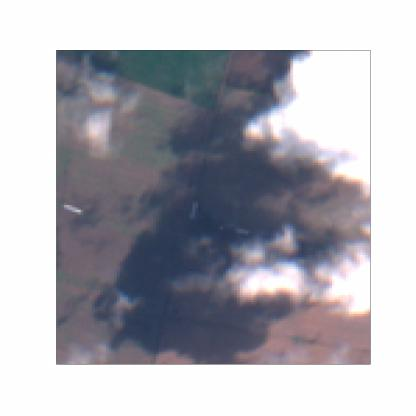silobolsa: (62, 202, 84, 213), (189, 201, 198, 220)
